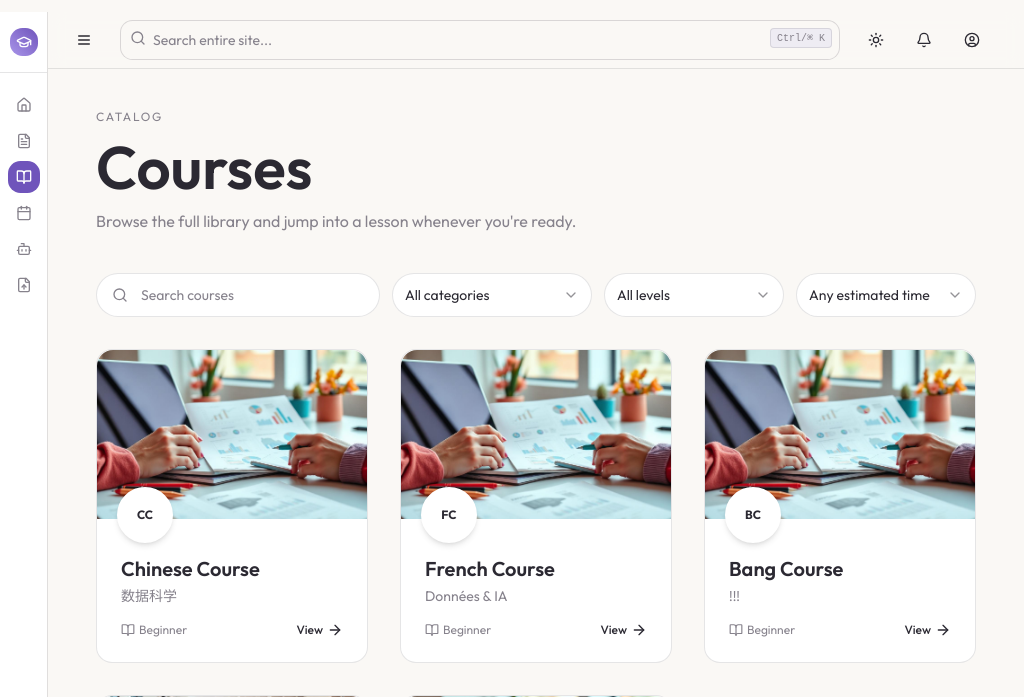
Test case: 3. free-text stored names (synthetic; Builder Category is unrestricted text) › choosing 数据科学 writes ?category=数据科学, shows only its card, and survives Back/Forward
Later steps or results of the test are not shown.
Click the dropdown named "Category".
click(492, 295)  # box left=392, top=273, right=592, bottom=317
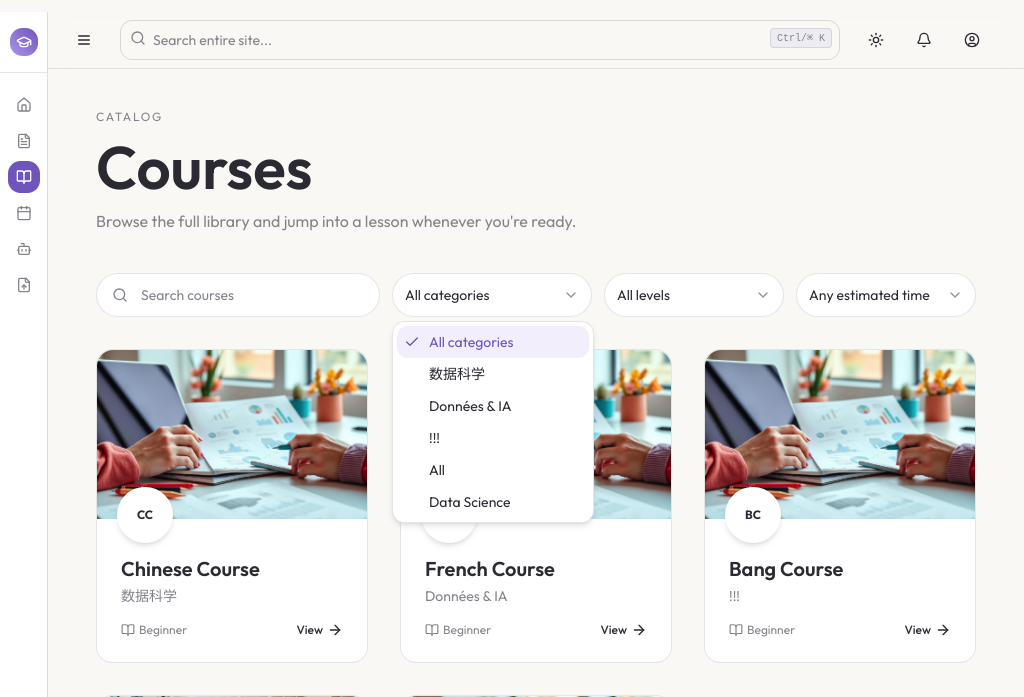
Click the option "数据科学".
click(457, 374)  # box left=429, top=365, right=485, bottom=383
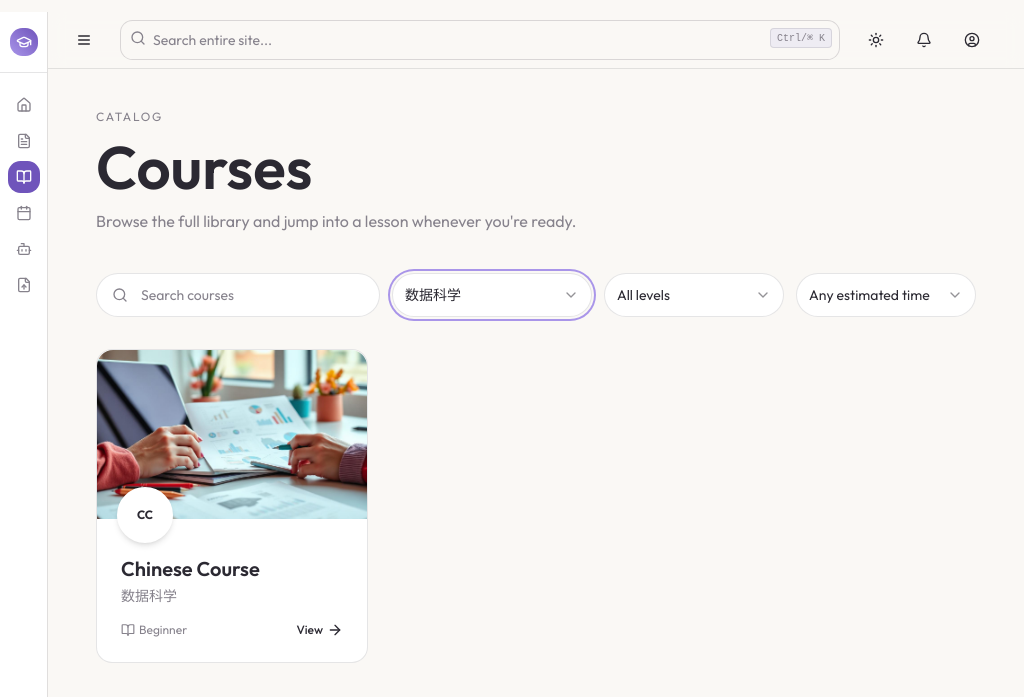
Check: the 1st text "数据科学" is shown, box left=405, top=285, right=461, bottom=305
Check: the dropdown named "Category" reads "数据科学", box left=392, top=273, right=592, bottom=317
